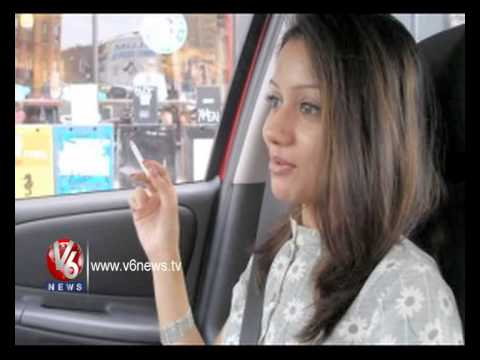cigarette: (123, 135, 154, 179)
